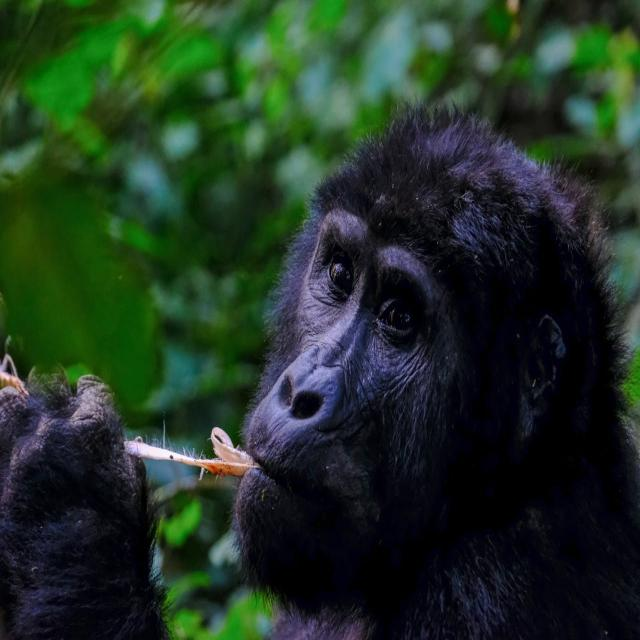Gorilla: (0, 101, 640, 640)
